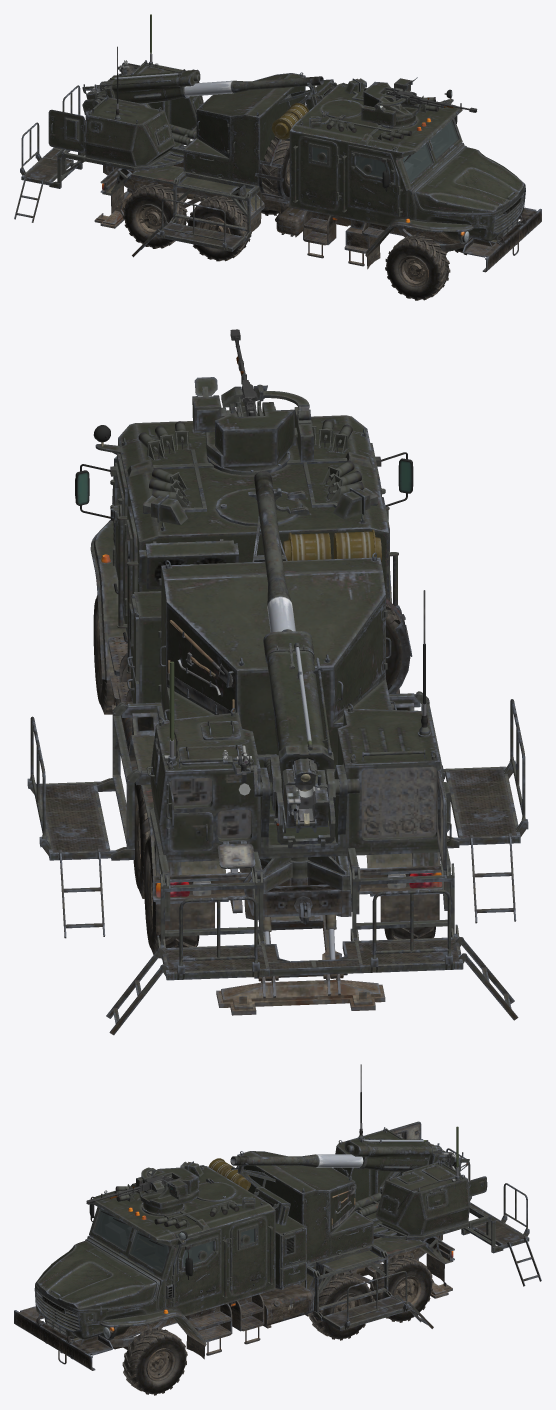
File: 2s40_floks__broken_arrow.glb
3 renders of one model, top to bottom at view 1: azimuth 30°, elevation 25°; view 2: azimuth 150°, elevation 25°; view 3: azimuth 270°, elevation 25°, orthographic. The views are drawn at different scales.
Parts seen in each view (by area): view 1: Object_2, Object_3, Object_4; view 2: Object_2; view 3: Object_2, Object_3, Object_4.
Boxes of the visible parts, x1,y1,x2,y2 form: Object_2: (14, 14, 541, 300); Object_3: (312, 120, 458, 182); Object_4: (387, 90, 477, 112); Object_2: (27, 377, 528, 1035); Object_2: (14, 1064, 541, 1395); Object_3: (93, 1209, 254, 1272); Object_4: (86, 1175, 171, 1204).
Size of the model in its own units: 7.23 by 3.61 by 8.63.
Materials: 3 (2 with a texture image).
